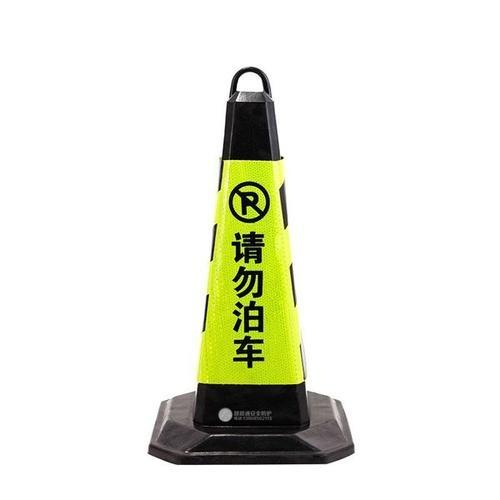cone_barrel: (166, 73, 332, 448)
